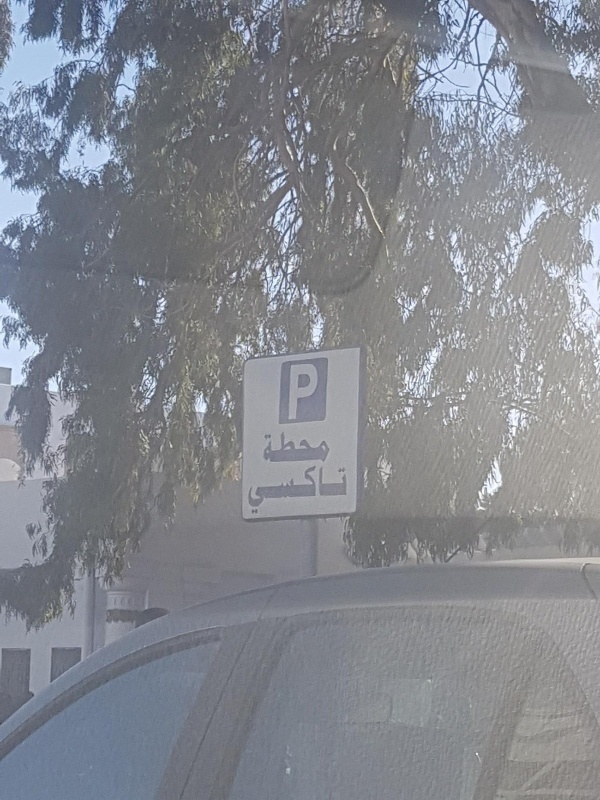text: (305, 363, 320, 421), (257, 461, 272, 517), (273, 461, 288, 517), (289, 461, 304, 517), (305, 461, 320, 517), (321, 461, 336, 517), (290, 363, 304, 421), (337, 461, 349, 517), (245, 461, 256, 517), (273, 431, 288, 464), (289, 431, 304, 464), (305, 431, 320, 464), (321, 431, 333, 464), (262, 431, 272, 464)
